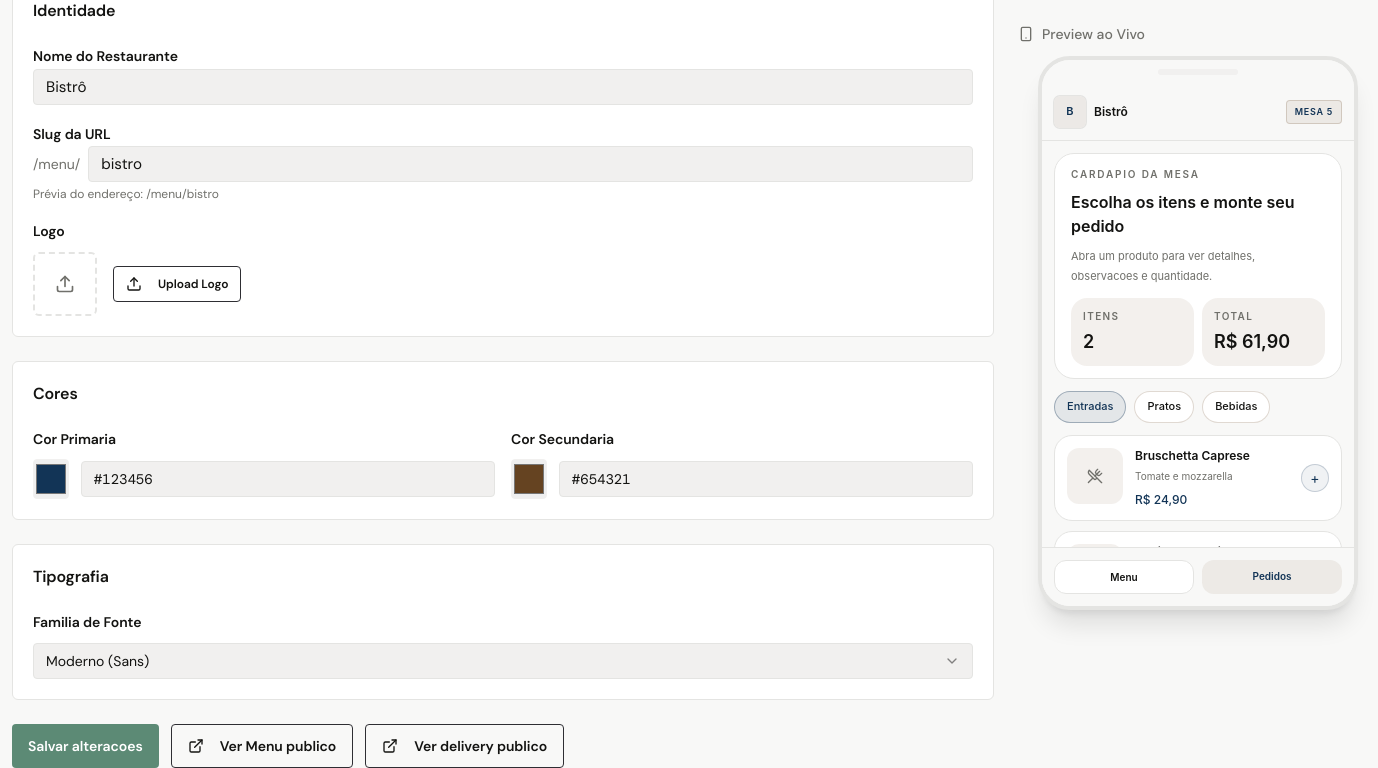
Test case: restaurant writer pages respect publication receipts › appearance does not report published before ready and blocks repeated writes
(page scrolled)
Check: the field showing "Bistrô" below "Nome do Restaurante" is shown, box [33,69,973,105]
Click the button "Salvar alteracoes". click: x=85, y=746
box: [12,724,159,767]
(page scrolled)
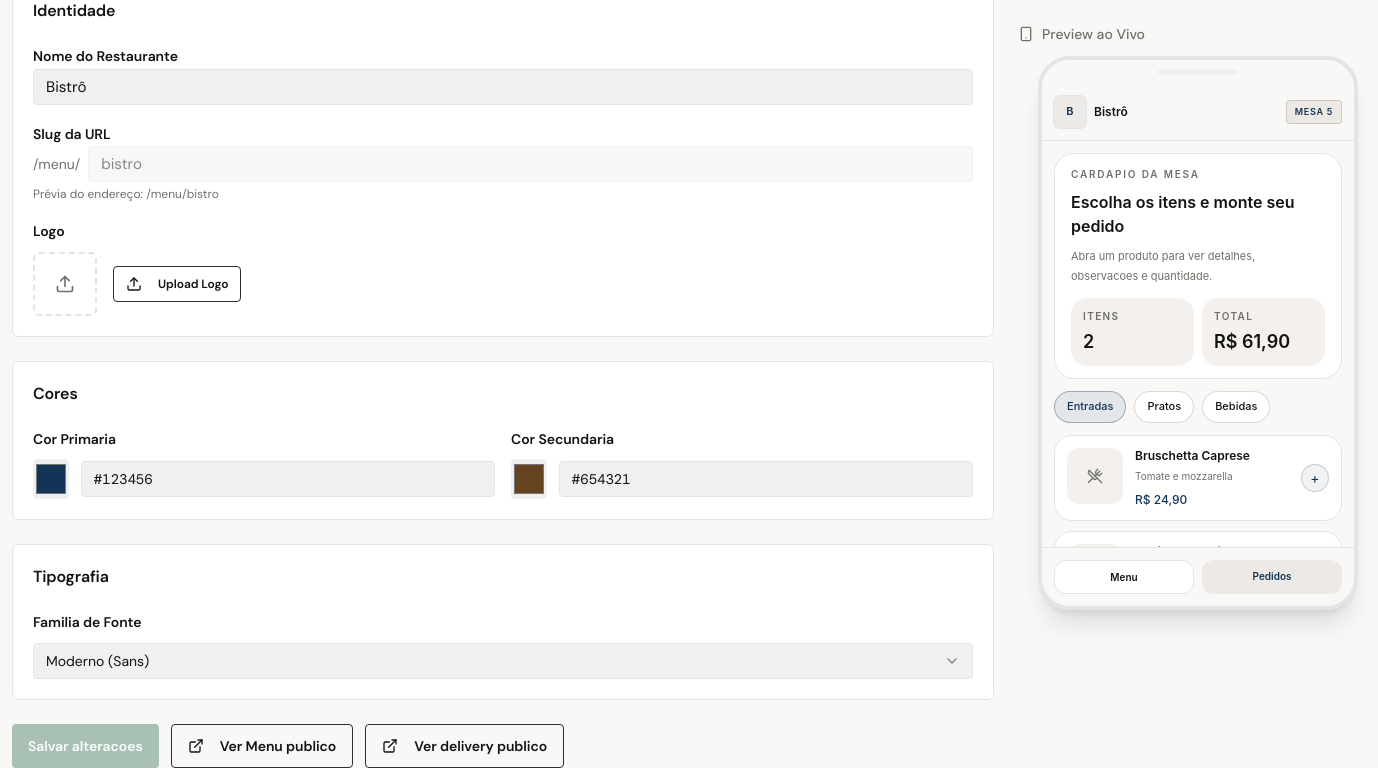
Check: the button "Salvar alteracoes" is disabled, box [12,724,159,767]
